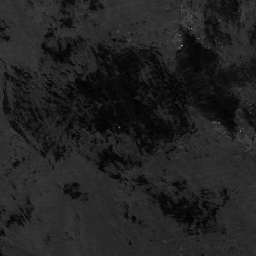Target: (116, 124, 121, 130)
